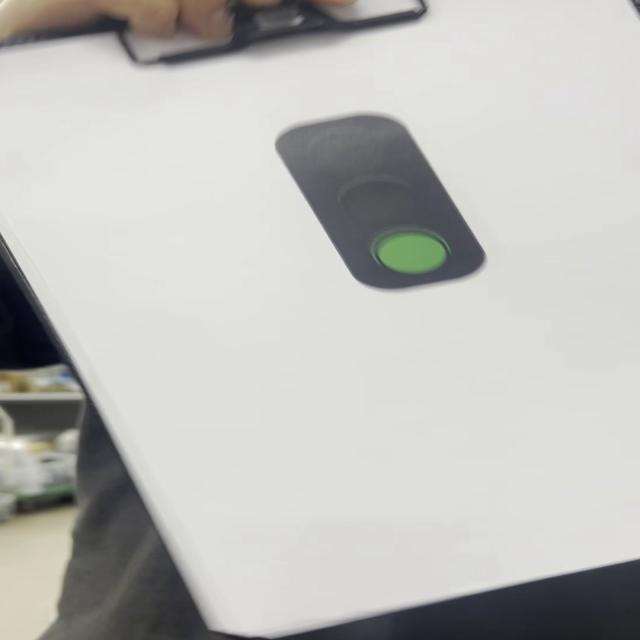green: (273, 116, 486, 291)
